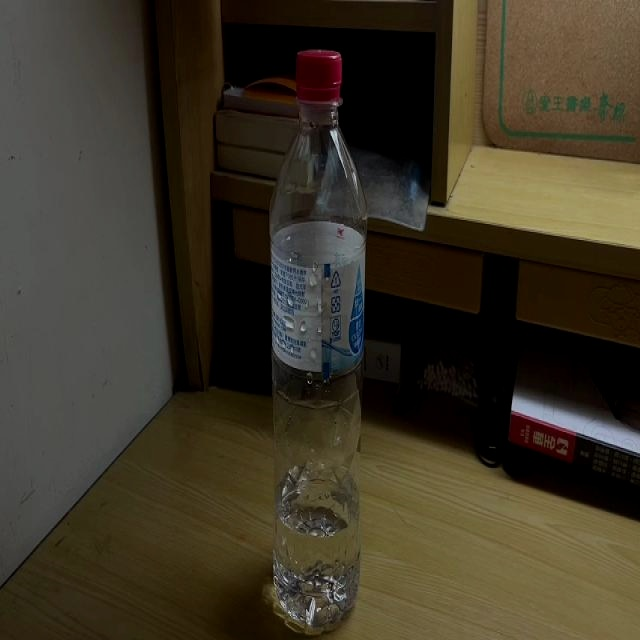Water: (269, 46, 368, 638)
